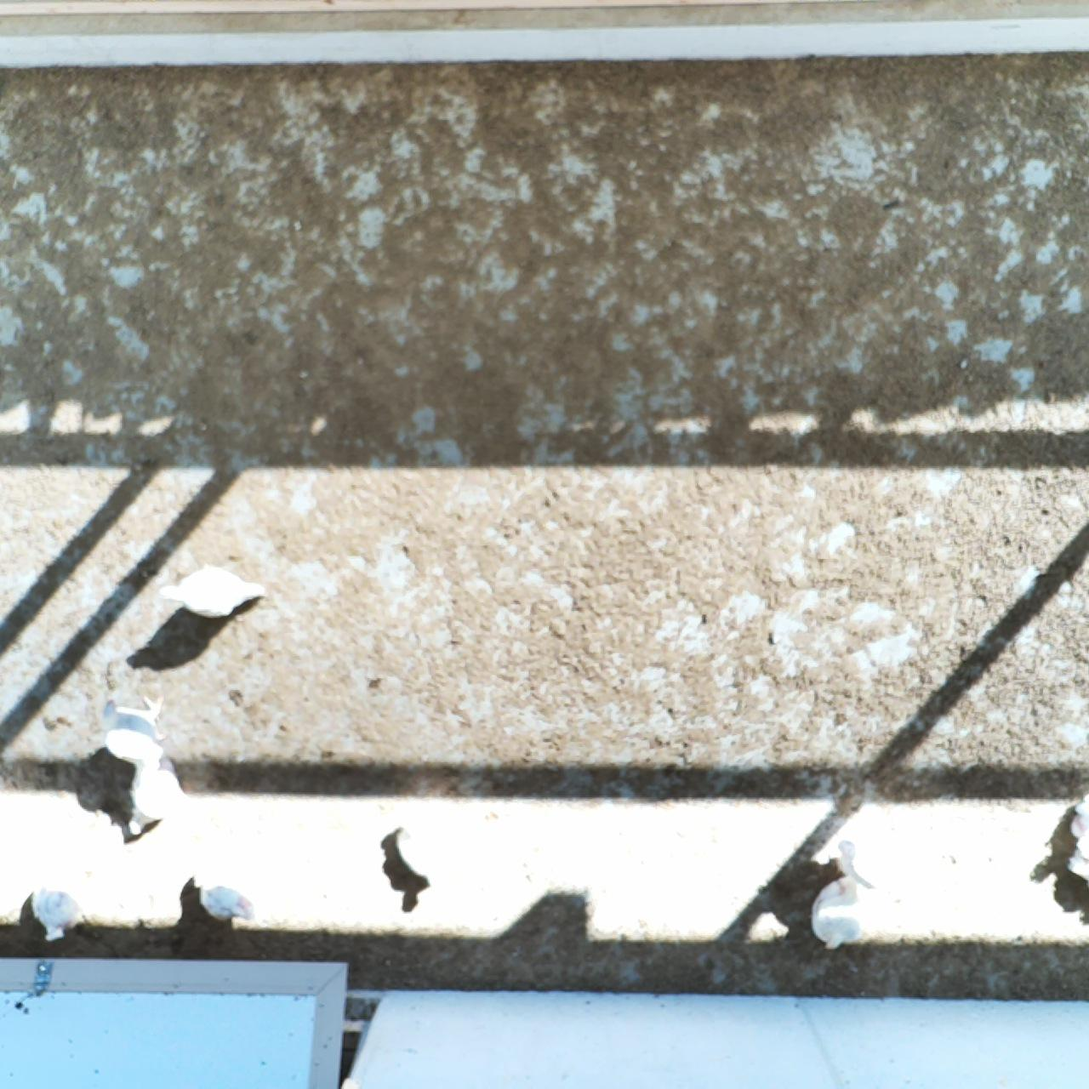chicken: (837, 811, 919, 903), (157, 561, 271, 624), (805, 874, 889, 955), (121, 758, 191, 841), (97, 690, 168, 769), (29, 857, 90, 944), (190, 859, 260, 925), (389, 817, 450, 885)
